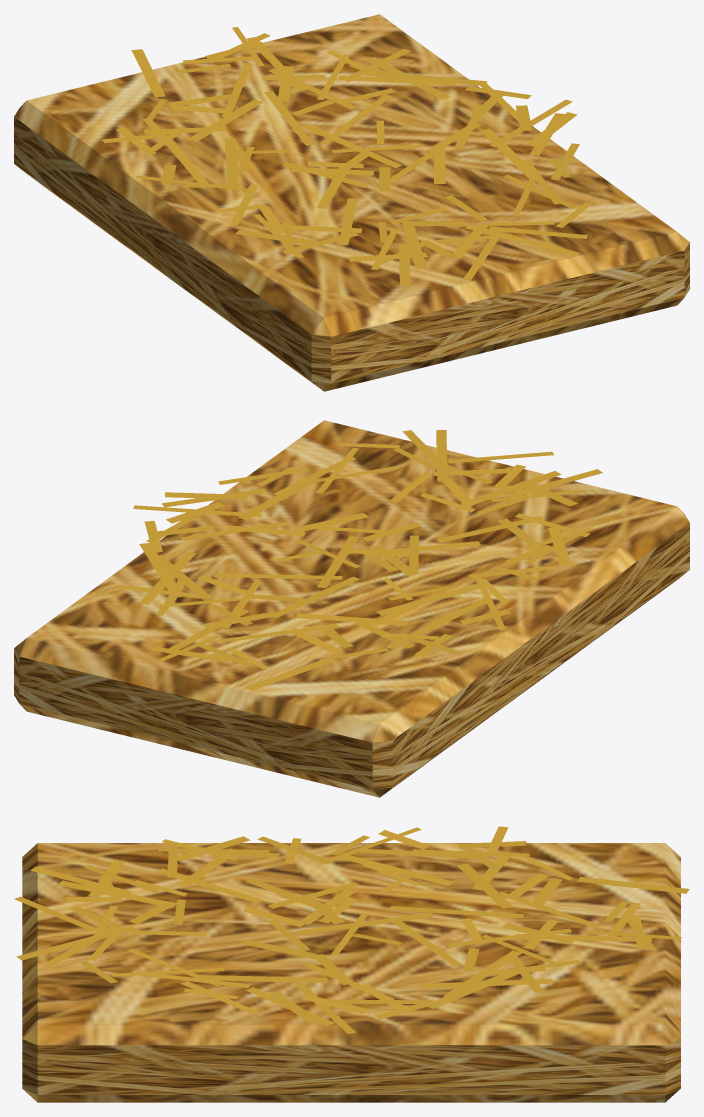
Rendered from BarnCozy_Fill1_1.fbx.
3 renders of one model, top to bottom at view 1: azimuth 30°, elevation 25°; view 2: azimuth 150°, elevation 25°; view 3: azimuth 270°, elevation 25°, orthographic. The views are drawn at different scales.
Visible parts, largest first — view 1: BarnCozy_Fill1_1; view 2: BarnCozy_Fill1_1; view 3: BarnCozy_Fill1_1.
Boxes of the visible parts, box(x1,y1,x2,y2) form: BarnCozy_Fill1_1: box(14, 14, 689, 391); BarnCozy_Fill1_1: box(14, 420, 689, 797); BarnCozy_Fill1_1: box(14, 826, 689, 1102).
Size of the model in its own units: 0.7556 by 0.1588 by 1.03.
